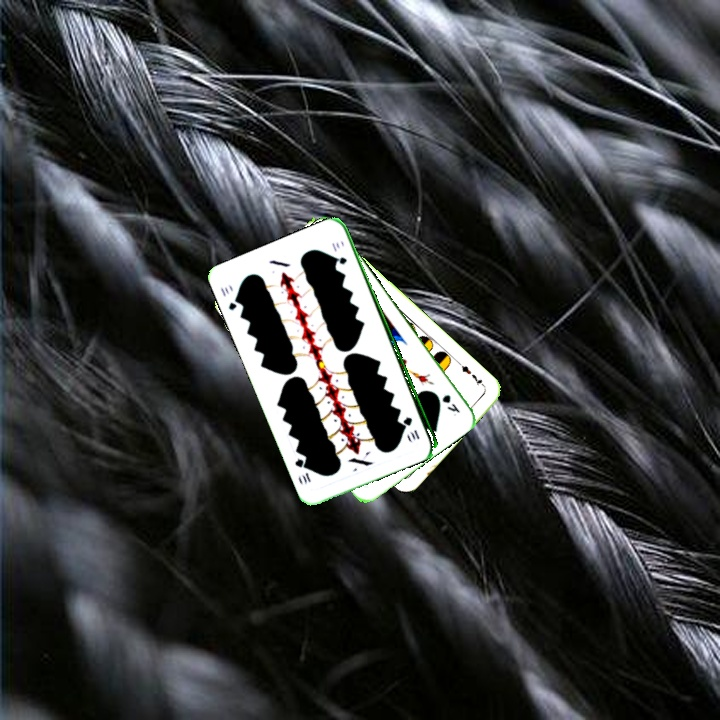E7: (455, 359, 488, 390)
G10: (216, 283, 243, 313), (401, 413, 422, 443)
GK: (438, 390, 462, 419)
